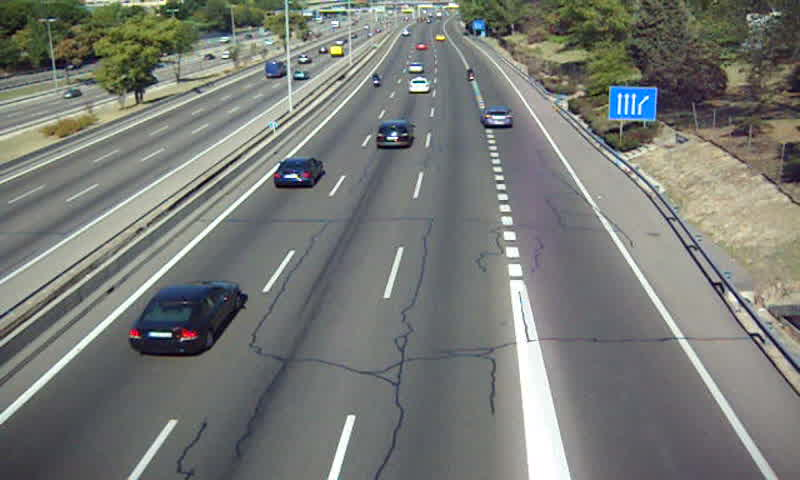car: (130, 281, 241, 354), (272, 157, 323, 187), (375, 119, 415, 149), (479, 107, 513, 129), (407, 77, 430, 94), (408, 61, 422, 73)
motorcycle: (466, 67, 478, 84), (372, 70, 381, 90)
